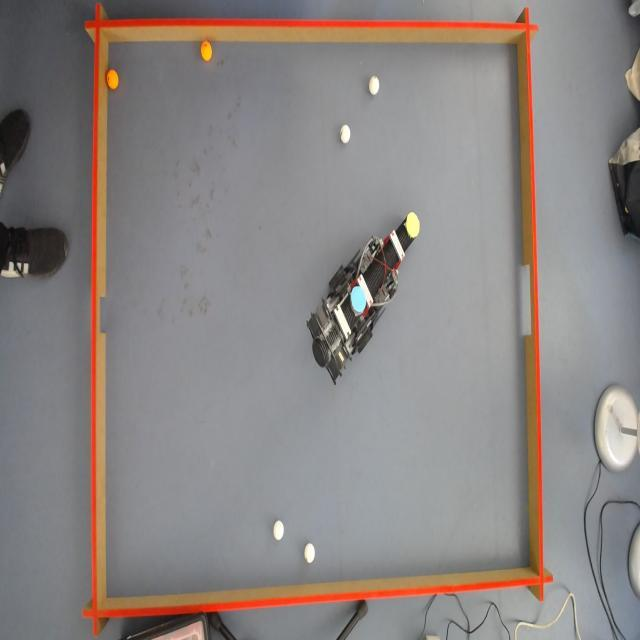orange: (106, 68, 122, 90), (200, 41, 212, 64)
robot: (306, 210, 410, 380)
robot-front: (406, 212, 420, 238)
robot-rear: (352, 286, 366, 312)
white: (272, 518, 286, 540), (304, 542, 317, 564), (369, 76, 381, 96), (340, 124, 350, 144)
